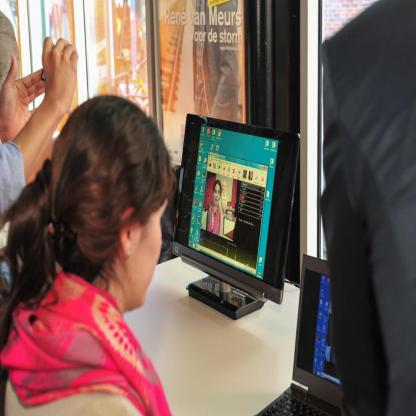board: (255, 255, 332, 416)
